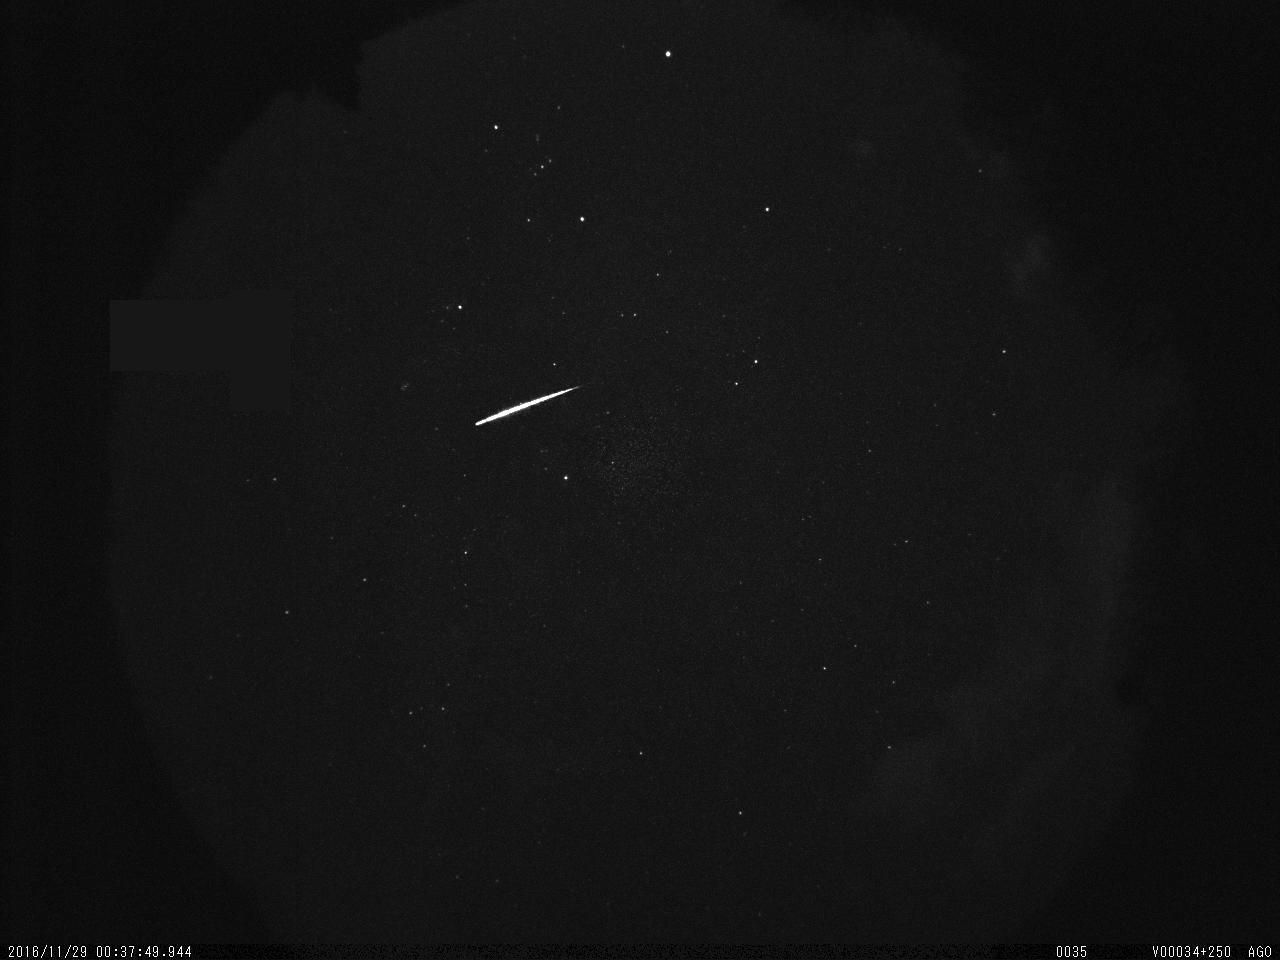meteor: (465, 381, 592, 440)
